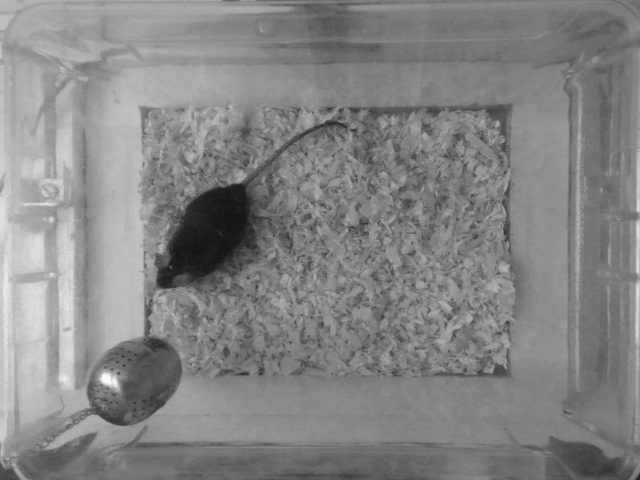mice: (147, 116, 353, 301)
